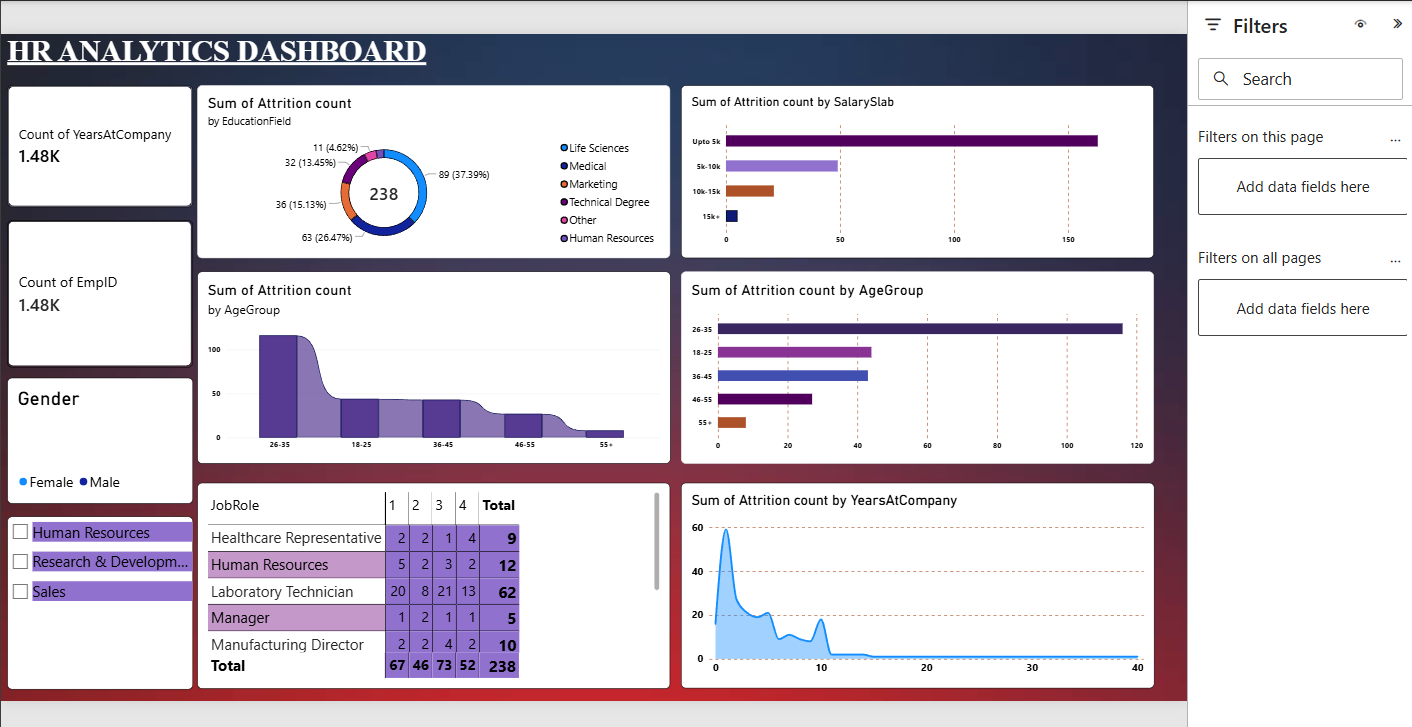

What the dashboard file says about the page in this screenshot:
{"tool":"powerbi","page":{"name":"Page 1","canvas":[1920,1080],"ordinal":0},"visuals":[{"type":"textbox","box":[10.3,0,714.2,279.9],"z":0},{"type":"cardVisual","fields":{"Data":["CountNonNull(Sheet1.YearsAtCompany)"]},"box":[10.3,82.3,300.5,197.6],"z":1},{"type":"cardVisual","fields":{"Data":["CountNonNull(Sheet1.EmpID)"]},"box":[10.3,300.5,300.5,238.8],"z":2},{"type":"treemap","fields":{"Group":["Sheet1.Gender"]},"box":[10.3,555.7,300.5,203.8],"z":3},{"type":"donutChart","fields":{"Category":["Sheet1.EducationField"],"Y":["Sum(Sheet1.Attrition count)"]},"box":[317,82.3,765.7,279.9],"z":4},{"type":"columnChart","fields":{"Category":["Sheet1.AgeGroup"],"Y":["Sum(Sheet1.Attrition count)"]},"box":[317,384.9,766,311],"z":5},{"type":"pivotTable","title":"Matrix","fields":{"Columns":["Sheet1.JobSatisfaction"],"Rows":["Sheet1.JobRole"],"Values":["Sum(Sheet1.Attrition count)"]},"box":[317,726.6,765.7,333.4],"z":6},{"type":"slicer","fields":{"Values":["Sheet1.Department"]},"box":[10.3,780.1,300.5,279.9],"z":7},{"type":"barChart","fields":{"Category":["Sheet1.SalarySlab"],"Y":["Sum(Sheet1.Attrition count)"]},"box":[1101.2,82.3,765.7,279.9],"z":8},{"type":"barChart","fields":{"Category":["Sheet1.AgeGroup"],"Y":["Sum(Sheet1.Attrition count)"]},"box":[1101.2,384.9,765.7,310.8],"z":9},{"type":"areaChart","fields":{"Category":["Sheet1.YearsAtCompany"],"Y":["Sum(Sheet1.Attrition count)"]},"box":[1101,727,766,333],"z":10}]}

Visuals, with their boxes on the page's 1920x1080 design canvas (x1, y1, x2, y2). These are canvas units, not pixel positions in the 1412x727 screenshot, which may show the page scaled, cropped or inside an application window:
textbox: (10,0,724,280)
cardVisual - CountNonNull(Sheet1.YearsAtCompany): (10,82,311,280)
cardVisual - CountNonNull(Sheet1.EmpID): (10,300,311,539)
treemap - Sheet1.Gender: (10,556,311,760)
donutChart - Sheet1.EducationField x Sum(Sheet1.Attrition count): (317,82,1083,362)
columnChart - Sheet1.AgeGroup x Sum(Sheet1.Attrition count): (317,385,1083,696)
"Matrix" pivotTable: (317,727,1083,1060)
slicer - Sheet1.Department: (10,780,311,1060)
barChart - Sheet1.SalarySlab x Sum(Sheet1.Attrition count): (1101,82,1867,362)
barChart - Sheet1.AgeGroup x Sum(Sheet1.Attrition count): (1101,385,1867,696)
areaChart - Sheet1.YearsAtCompany x Sum(Sheet1.Attrition count): (1101,727,1867,1060)
